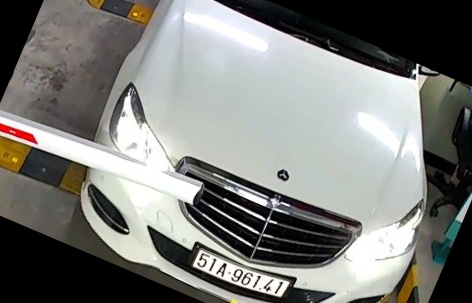plate: (184, 235, 296, 298)
